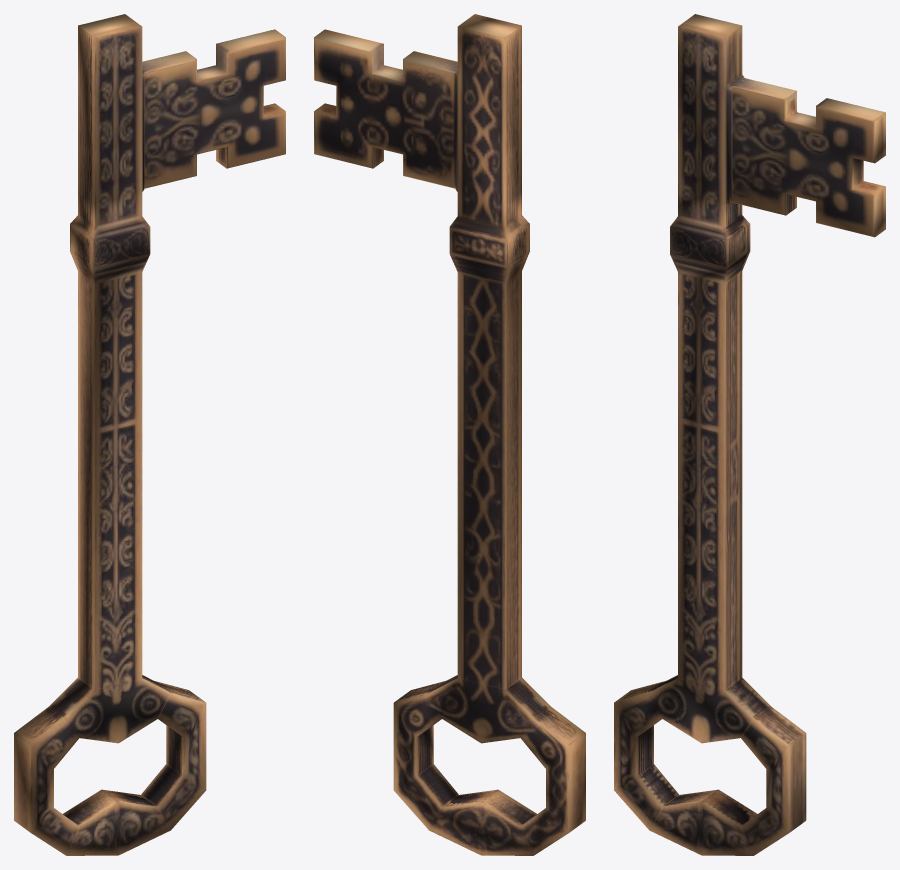
The model's file is gate-key.fbx.
3 renders of one model, left to right at view 1: azimuth 30°, elevation 25°; view 2: azimuth 150°, elevation 25°; view 3: azimuth 330°, elevation 25°, orthographic.
Parts seen in each view (by area): view 1: gate-key; view 2: gate-key; view 3: gate-key.
Boxes of the visible parts, x1,y1,x2,y2 form: gate-key: (14,14,285,855); gate-key: (314,14,585,855); gate-key: (614,14,885,855).
Size of the model in its own units: 7.48 by 22.82 by 1.15.
